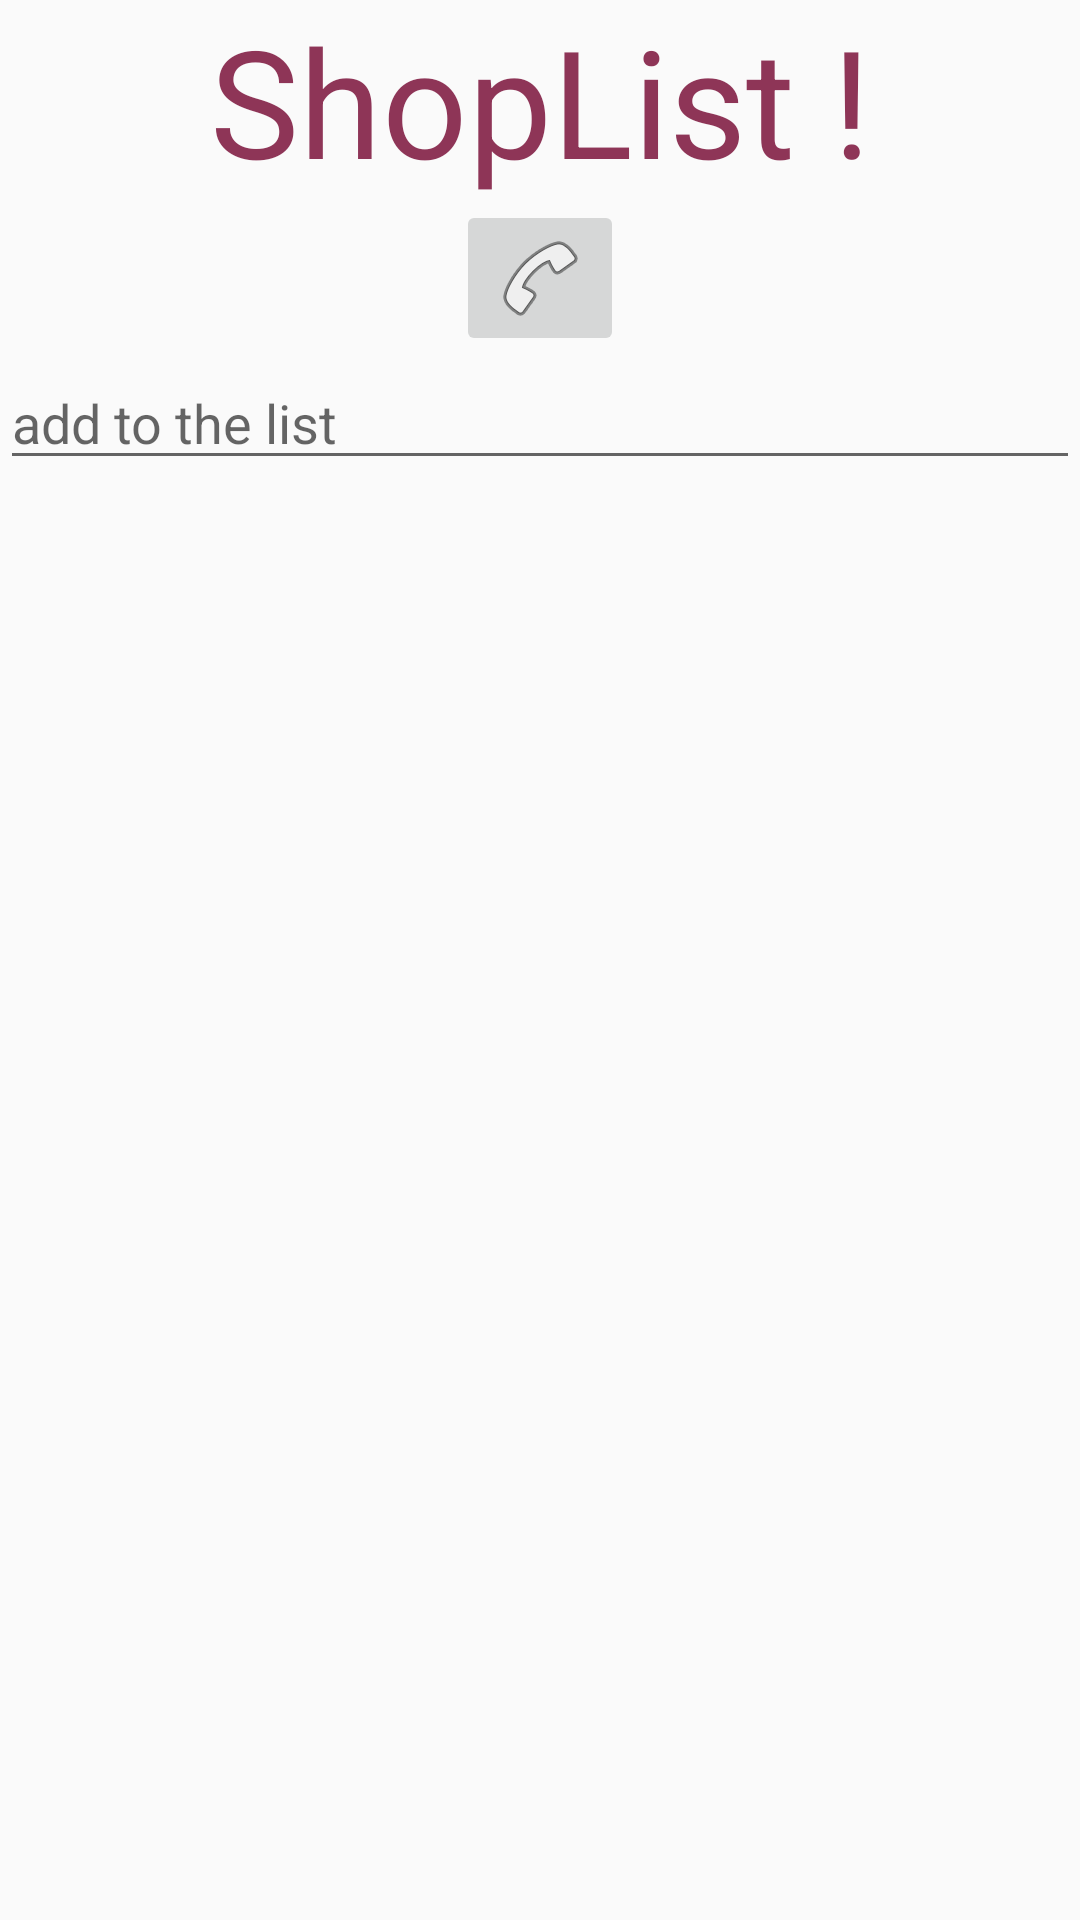

Icon bounding boxes for this 1080*1920 phone screenshot, format {"x1": x1, "y1": y1, "x2": x2, "y2": y2}:
call: {"x1": 468, "y1": 218, "x2": 612, "y2": 338}
